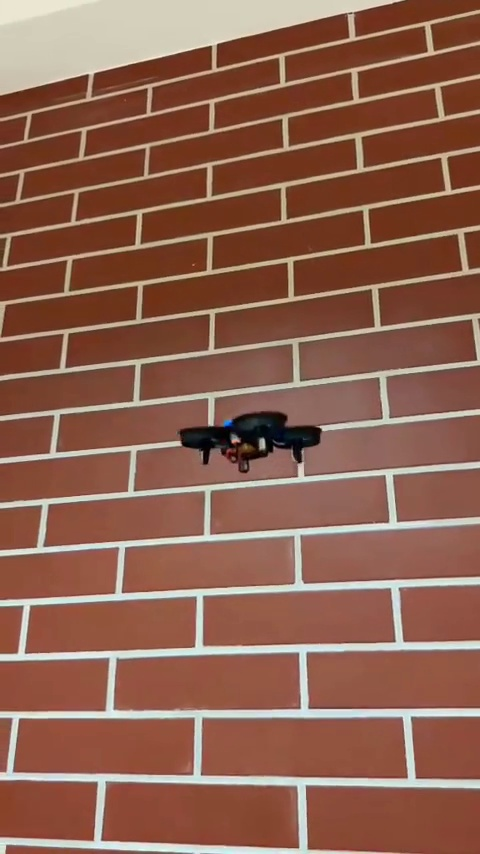drone: (177, 411, 326, 472)
